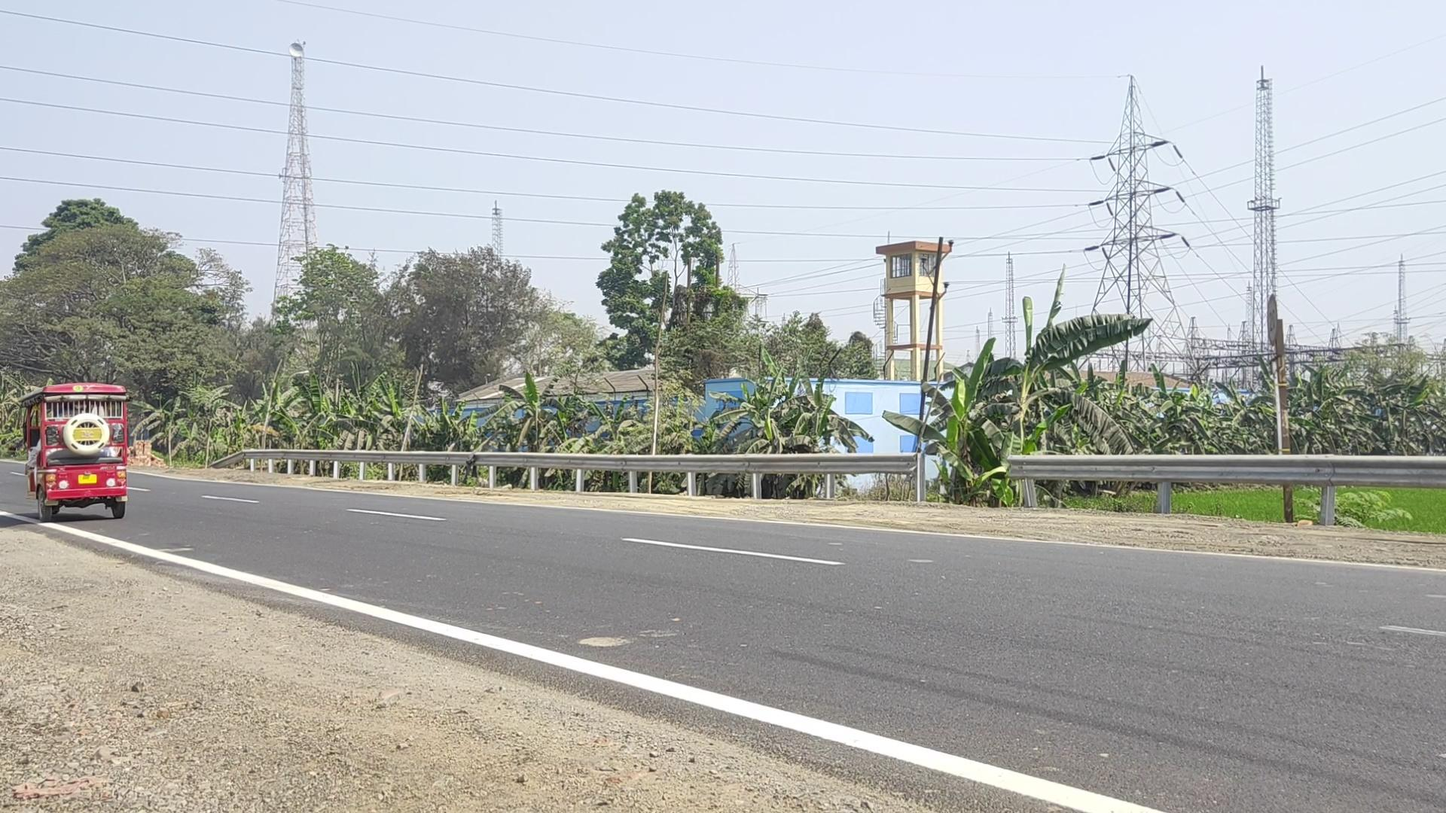Auto: (19, 382, 128, 522)
